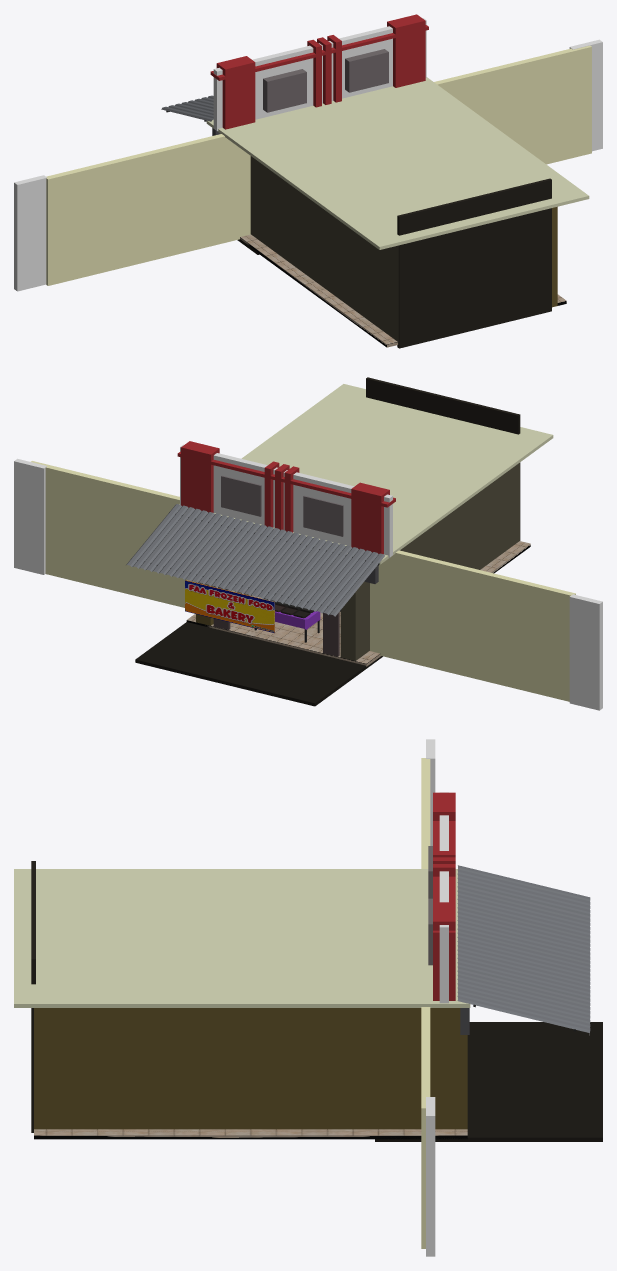
The model's file is maptokofaa.glb.
3 views of the same model, one above another, from view 1: azimuth 30°, elevation 25°; view 2: azimuth 150°, elevation 25°; view 3: azimuth 270°, elevation 25° (orthographic). The views are drawn at different scales.
Parts seen in each view (by area): view 1: Cube.004, Cube.048, Cube.120, Cube.001, Cube.005, Cube.128, Cube.007, Cube.132, Cube.130, Cube, Cube.138, Cube.139 (+7 smaller); view 2: Cube.004, Cube.048, Plane.001, Cube.005, Cube.011, Cube.001, Cube.128, Cube.007, Cube.008, Cube.120, Cube.010, Cube (+10 smaller); view 3: Cube.004, Cube.002, Plane.001, Cube.011, Cube, Cube.005, Cube.008, Cube.130, Cube.128, Cube.048, Cube.120, Cube.137.
Boxes of the visible parts, box(x1,y1,x2,y2) form: Cube.004: box(206, 77, 589, 249); Cube.048: box(46, 134, 250, 285); Cube.120: box(397, 178, 551, 348); Cube.001: box(250, 156, 398, 344); Cube.005: box(434, 45, 591, 164); Cube.128: box(213, 18, 426, 130); Cube.007: box(14, 175, 46, 291); Cube.132: box(216, 56, 255, 129); Cube.130: box(387, 14, 425, 87); Cube: box(240, 234, 566, 347); Cube.138: box(345, 49, 388, 92); Cube.139: box(263, 69, 306, 112); Cube.004: box(179, 384, 553, 564); Cube.048: box(370, 550, 575, 701); Plane.001: box(126, 504, 384, 616); Cube.005: box(31, 461, 234, 607); Cube.011: box(135, 622, 382, 706); Cube.001: box(340, 463, 519, 660); Cube.128: box(180, 444, 392, 557); Cube.007: box(569, 594, 602, 710); Cube.008: box(14, 458, 46, 574); Cube.120: box(366, 377, 520, 540); Cube.010: box(185, 580, 274, 633); Cube: box(186, 541, 530, 666); Cube.004: box(14, 869, 470, 1007); Cube.002: box(34, 1008, 467, 1129); Plane.001: box(457, 865, 590, 1032); Cube.011: box(375, 1022, 602, 1141); Cube: box(34, 1129, 467, 1139); Cube.005: box(421, 1007, 430, 1248); Cube.008: box(426, 1097, 435, 1256); Cube.130: box(433, 902, 455, 1000); Cube.128: box(439, 792, 448, 1003); Cube.048: box(421, 758, 430, 868); Cube.120: box(31, 861, 35, 1132); Cube.137: box(433, 821, 455, 936).
Size of the model in its own units: 19.55 by 5.61 by 12.91.
Materials: 115 (2 with a texture image).
